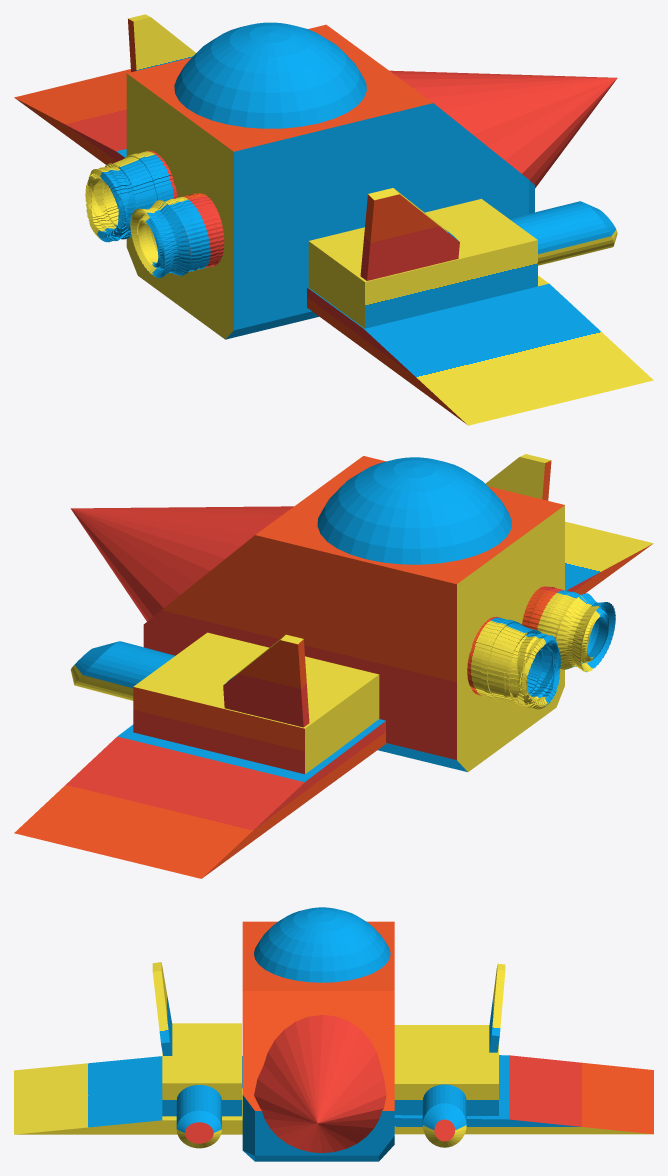
The model's file is ToffiiShip2.fbx.
The picture shows the model from 3 angles, top to bottom: view 1: azimuth 30°, elevation 25°; view 2: azimuth 150°, elevation 25°; view 3: azimuth 270°, elevation 25°; orthographic projection. The views are drawn at different scales.
Visible parts, largest first — view 1: Cube; view 2: Cube; view 3: Cube.
Part boxes in pixels (x1=…): Cube: x1=14, y1=14, x2=653, y2=425; Cube: x1=14, y1=454, x2=653, y2=878; Cube: x1=14, y1=907, x2=653, y2=1161.
Bounding box in the file's own units: 537 × 257 × 842.
1 material, 1 textured.
